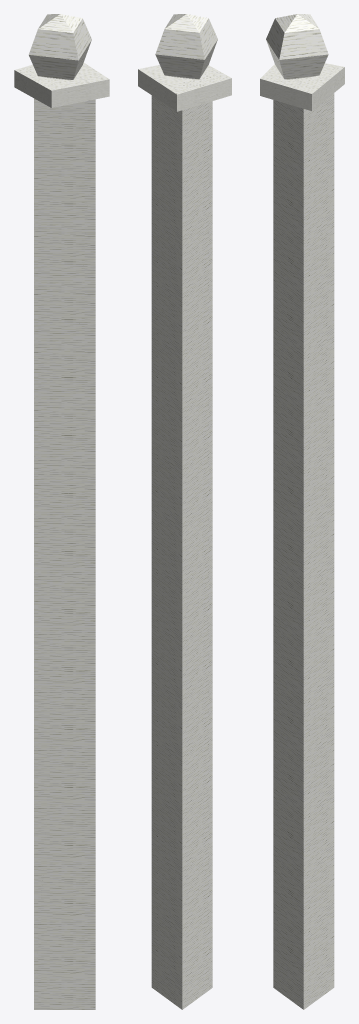
Rendered from ZiersäuleRundHoch [Weiß]_2131.glb.
3 views of the same model, side by side, from view 1: azimuth 30°, elevation 25°; view 2: azimuth 210°, elevation 25°; view 3: azimuth 330°, elevation 25° (orthographic).
Parts seen in each view (by area): view 1: pCylinderShape29, pSphereShape50, pCubeShape210; view 2: pCylinderShape29, pSphereShape50, pCubeShape210; view 3: pCylinderShape29, pSphereShape50, pCubeShape210.
Part boxes in pixels (x1,y1,x2,y2): pCylinderShape29: (34, 98, 95, 1009); pSphereShape50: (28, 14, 91, 80); pCubeShape210: (14, 62, 109, 107); pCylinderShape29: (151, 95, 212, 1009); pSphereShape50: (155, 14, 217, 79); pCubeShape210: (138, 65, 231, 111); pCylinderShape29: (273, 93, 334, 1009); pSphereShape50: (266, 14, 328, 79); pCubeShape210: (260, 63, 344, 110).
Bounding box in the file's own units: 0.0933 × 1.39 × 0.0952.
3 materials, 3 textured.
